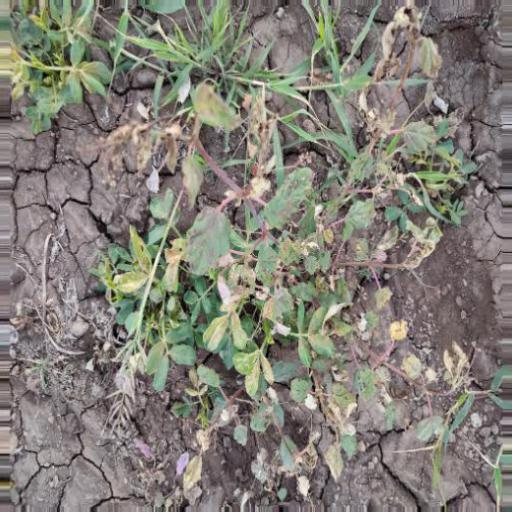weed: (60, 184, 472, 470), (3, 1, 415, 134)
